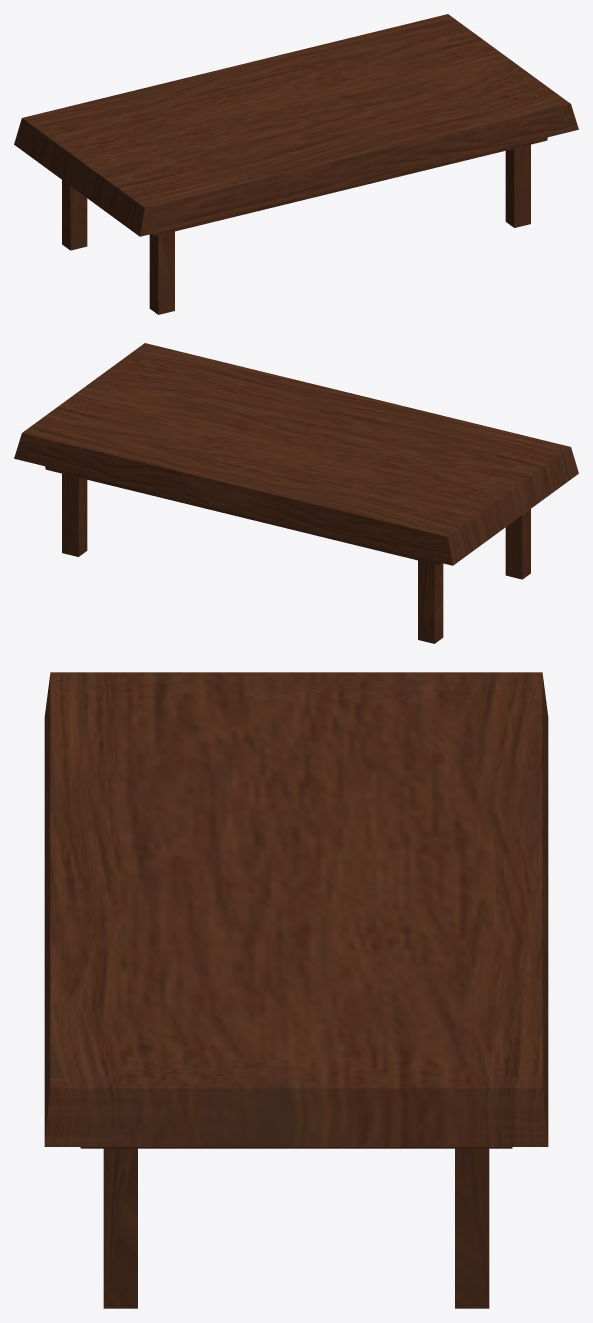
File: sofatable.fbx
3 views of the same model, one above another, from view 1: azimuth 30°, elevation 25°; view 2: azimuth 150°, elevation 25°; view 3: azimuth 270°, elevation 25° (orthographic). The views are drawn at different scales.
Visible parts, largest first — view 1: sofaTable; view 2: sofaTable; view 3: sofaTable.
Part boxes in pixels (left/top/right/bottom): sofaTable: left=14, top=14, right=578, bottom=314; sofaTable: left=14, top=343, right=578, bottom=643; sofaTable: left=44, top=672, right=548, bottom=1308.
Size of the model in its own units: 2.59 by 0.6945 by 1.29.
